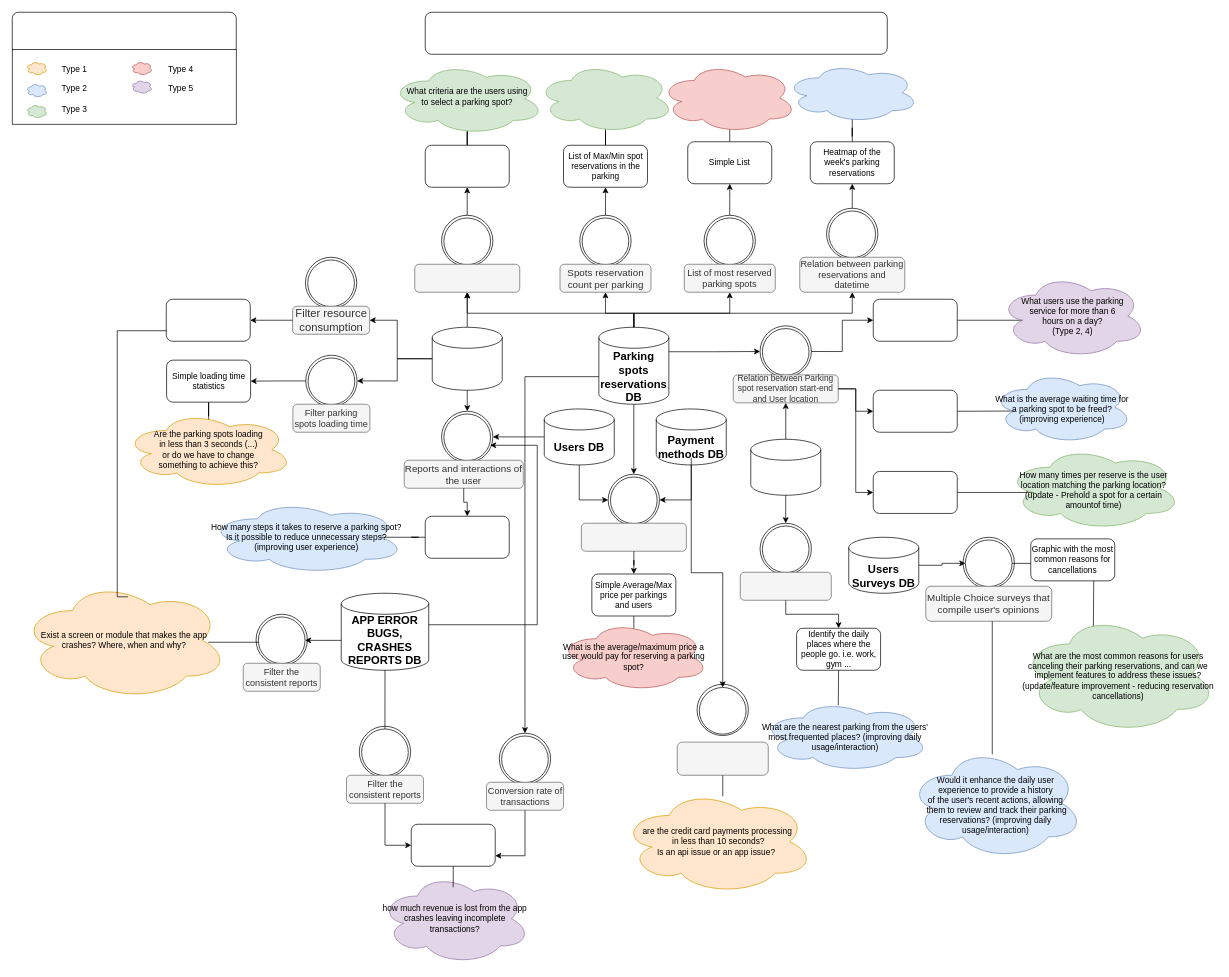
The diagram is 1229 pixels wide and 977 high, and some of its shapes have lost their labels. Each missing label, with the centre of its shape:
"App Interactions DB" goes at [467,358].
"At what time is a parking occupied the most/least?" goes at [852,92].
"Average of start-end difference filtered by parking spots" goes at [915,411].
"Count of matching user location and parking location" goes at [915,492].
"Diagram of criteria to reserve a spot" goes at [467,166].
"Filter the credit card payments by time." goes at [722,758].
"Filter User frequented places" goes at [785,586].
"Legend - Question types" goes at [124,33].
"List of steps a user takes to reserve a spot" goes at [467,278].
"List Users that use the service more than 6 hours a day" goes at [915,320].
"Number of taps made for average user when they reserve a spot." goes at [467,537].
"ParkEz - Visualization data map" goes at [656,33].
"Relation between user payments per parking spot reservation" goes at [633,537].
"Relation vetean the crashes reports and its consequences on the conversion rate." goes at [453,845].
"Resource consumption per screen" goes at [208,320].
"Users location DB" goes at [785,467].
"Which places are the most requested in the city?" goes at [728,97].
"Which spots and sections of the parking are the most/less used?" goes at [605,97].
